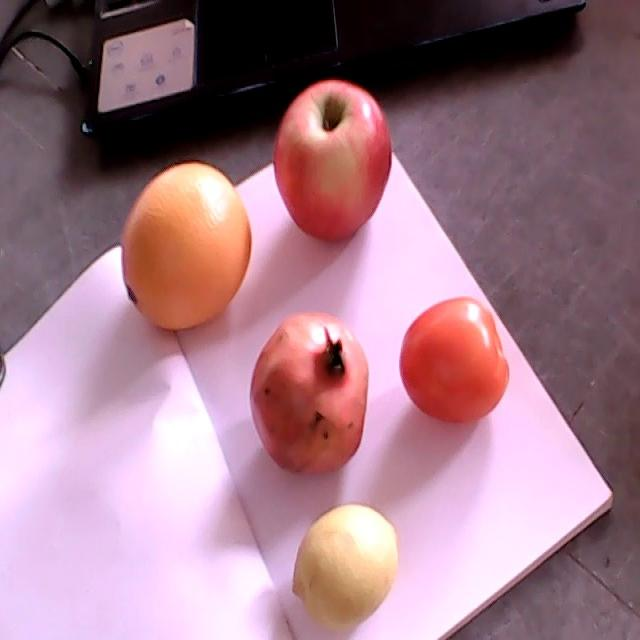apple: (274, 80, 391, 240)
lemon: (293, 504, 399, 624)
orange: (123, 162, 251, 332)
pomegranate: (250, 311, 369, 475)
tomato: (400, 297, 510, 421)
